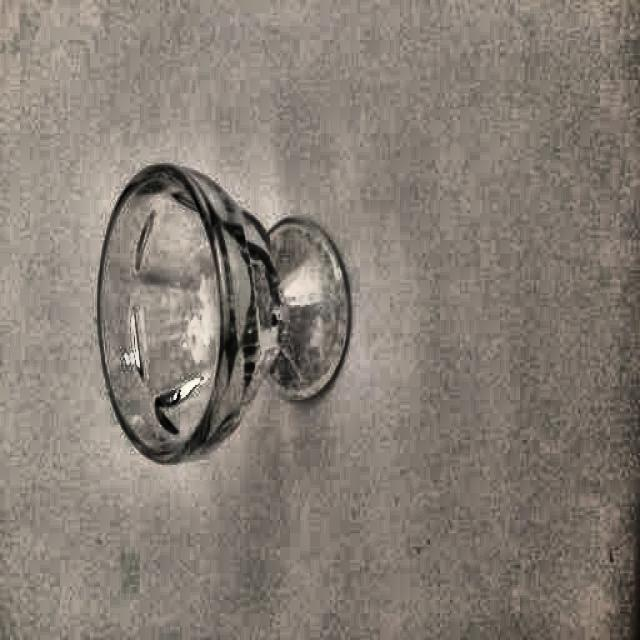glass: (98, 158, 354, 467)
